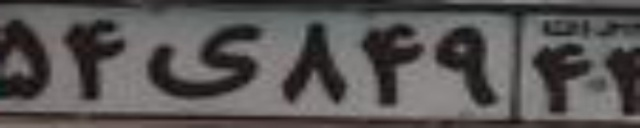4: (59, 19, 131, 100), (362, 22, 422, 104), (532, 43, 595, 112), (603, 45, 639, 117)
5: (0, 16, 49, 100)
8: (277, 22, 353, 104)
9: (433, 27, 501, 108)
ye: (146, 21, 261, 97)
